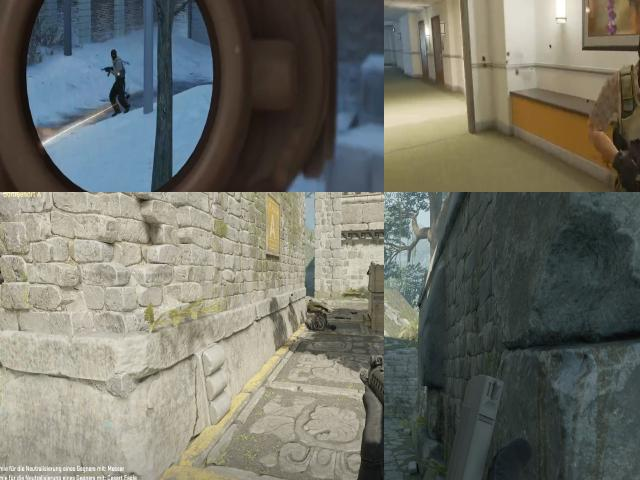Dead: (306, 313, 336, 330)
T: (589, 59, 640, 192), (106, 40, 129, 91)
T-Head: (626, 10, 640, 92), (107, 42, 125, 68)
